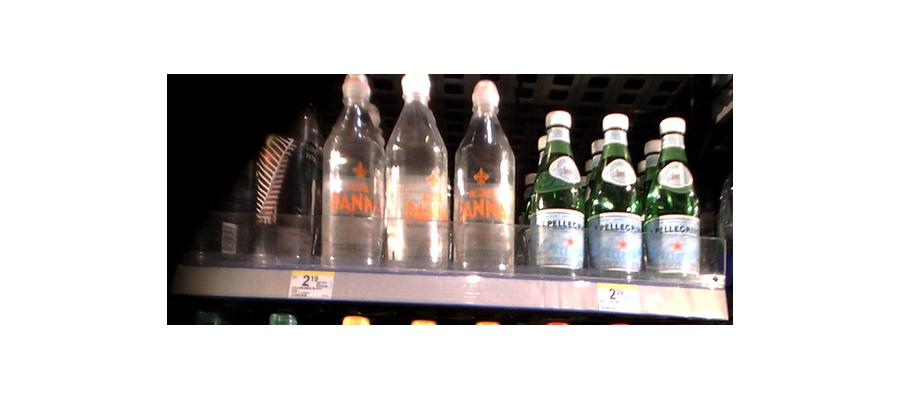bottle: (454, 85, 517, 277), (386, 81, 449, 268), (322, 79, 382, 269), (527, 113, 588, 273), (587, 113, 645, 278), (647, 117, 702, 282), (271, 94, 319, 262), (253, 124, 306, 265)
